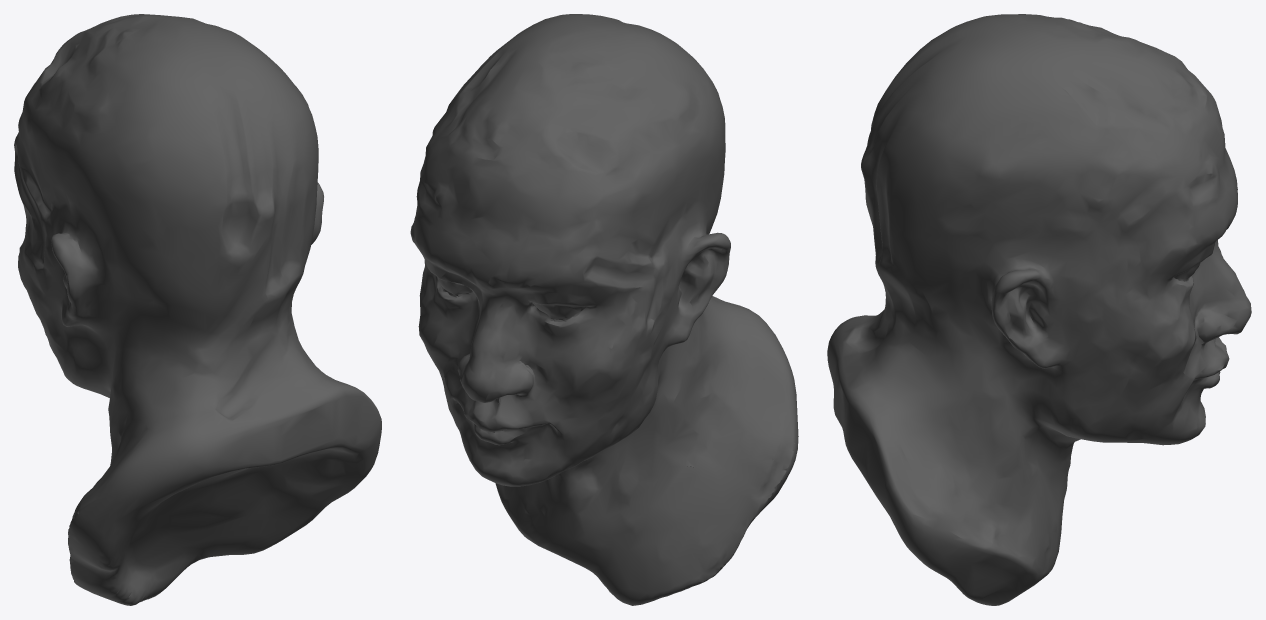
The model's file is 12_head_1.glb.
3 views of the same model, side by side, from view 1: azimuth 30°, elevation 25°; view 2: azimuth 150°, elevation 25°; view 3: azimuth 270°, elevation 25° (orthographic). The views are drawn at different scales.
Parts seen in each view (by area): view 1: Sphere; view 2: Sphere; view 3: Sphere.
Part boxes in pixels (box(x1,y1,x2,y2)): Sphere: box(14, 14, 381, 605); Sphere: box(410, 14, 798, 605); Sphere: box(827, 14, 1251, 605).
Size of the model in its own units: 6.43 by 11.19 by 7.46.
1 material, 1 textured.
